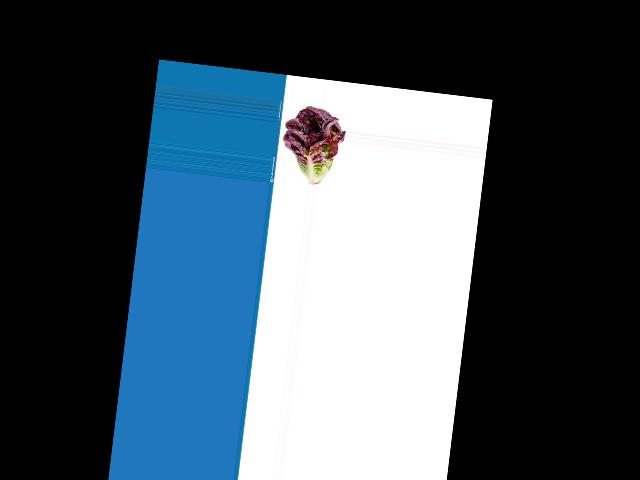lettuce: (278, 104, 345, 188)
